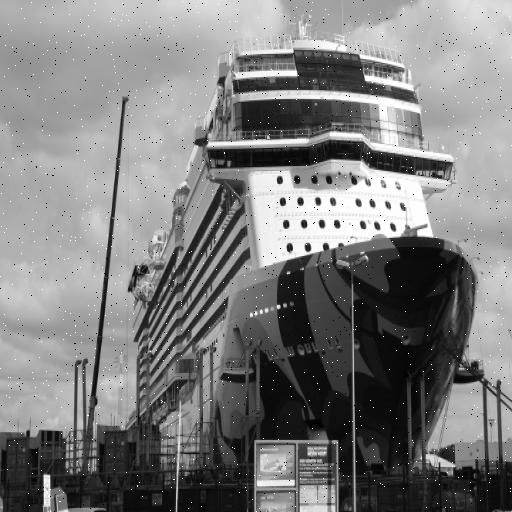cruises: (120, 14, 481, 512)
